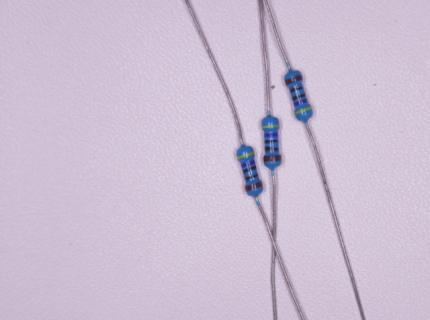Black band: (243, 165, 256, 174), (292, 94, 305, 101), (290, 86, 303, 93), (245, 174, 258, 180), (265, 147, 279, 151), (265, 140, 278, 143)
Brown band: (245, 181, 262, 191), (285, 75, 302, 85), (264, 155, 281, 162)
Violet band: (294, 98, 308, 107), (241, 160, 254, 168), (264, 133, 278, 137)
Yellow band: (238, 152, 254, 160), (295, 107, 312, 114), (262, 125, 278, 129)
